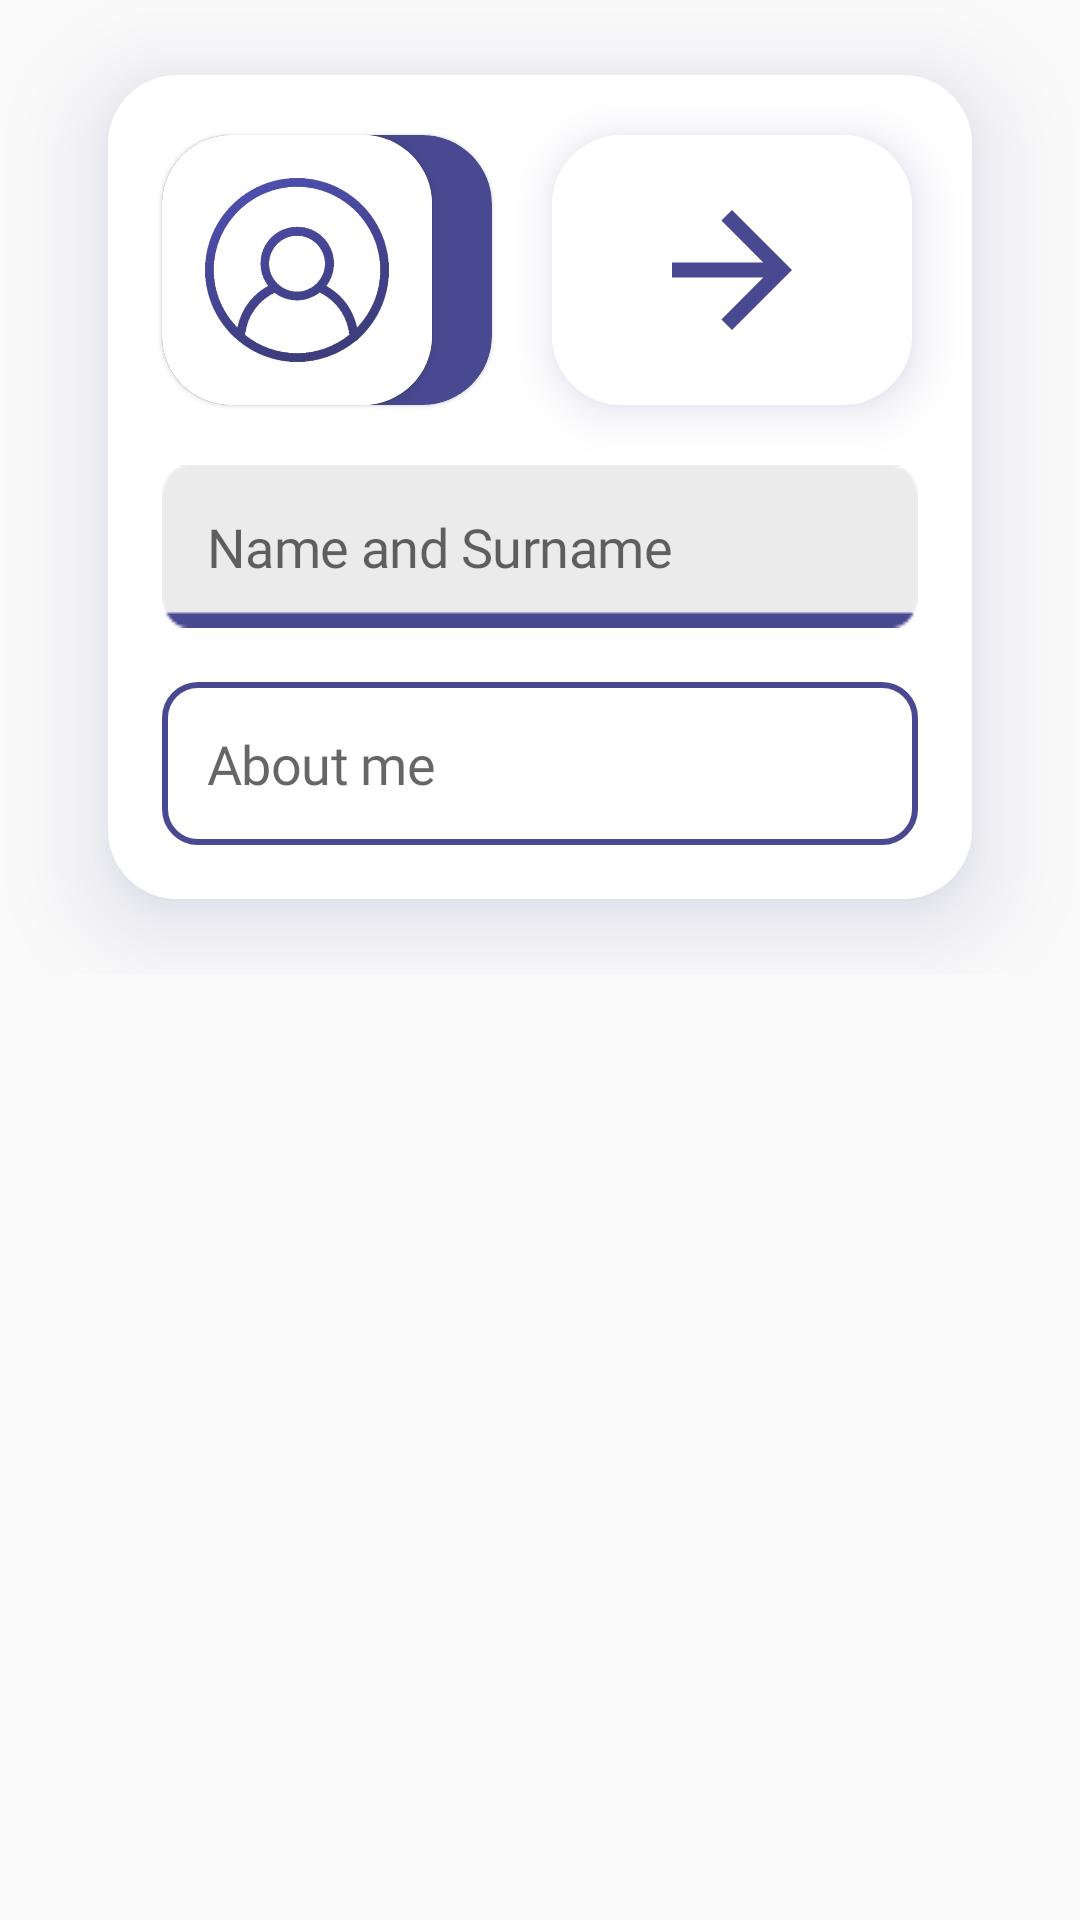

Screen size 1080px x 1920px. Icon name, then its box in pixels as rect(x1, y1, x2, y2):
arrow: rect(552, 135, 912, 405)
profile: rect(162, 135, 389, 405)
